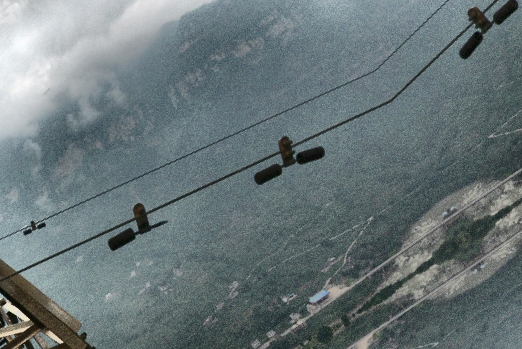damper: (252, 133, 327, 189), (454, 1, 516, 61), (21, 219, 47, 237)
damper_defect: (105, 201, 171, 254)
